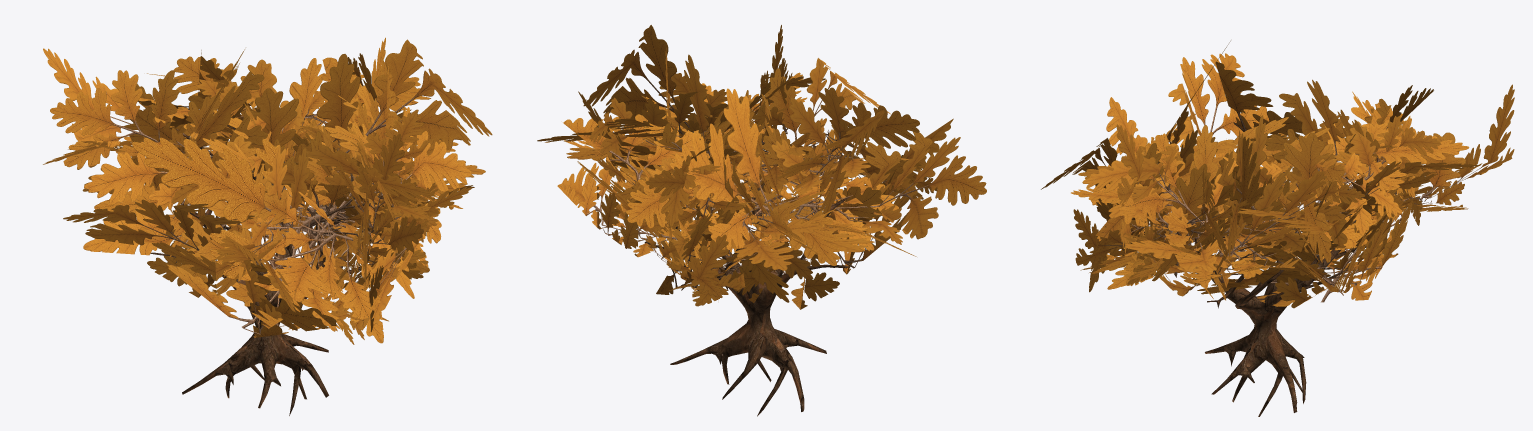
The model's file is Tree01.glb.
3 views of the same model, side by side, from view 1: azimuth 30°, elevation 25°; view 2: azimuth 150°, elevation 25°; view 3: azimuth 270°, elevation 25° (orthographic). The views are drawn at different scales.
Parts seen in each view (by area): view 1: tree01.LOD0; view 2: tree01.LOD0; view 3: tree01.LOD0.
Part boxes in pixels (<box>): tree01.LOD0: <box>43,37,492,415</box>; tree01.LOD0: <box>537,25,986,416</box>; tree01.LOD0: <box>1041,41,1514,416</box>.
Size of what is drawn, in the model's own units: 12.5 by 10 by 12.27.
Materials: 2 (2 with a texture image).
